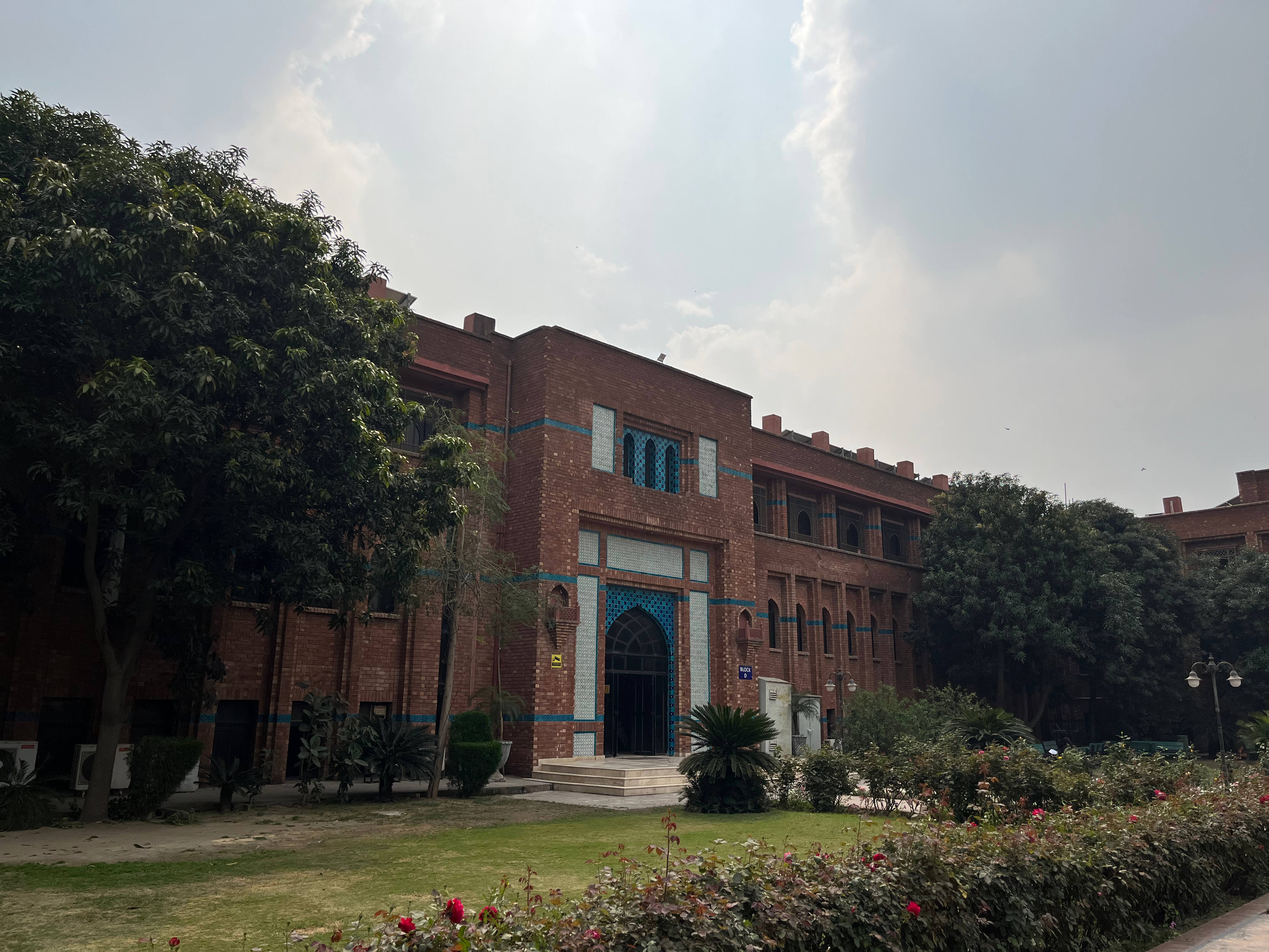Block D: (4, 301, 927, 755)
